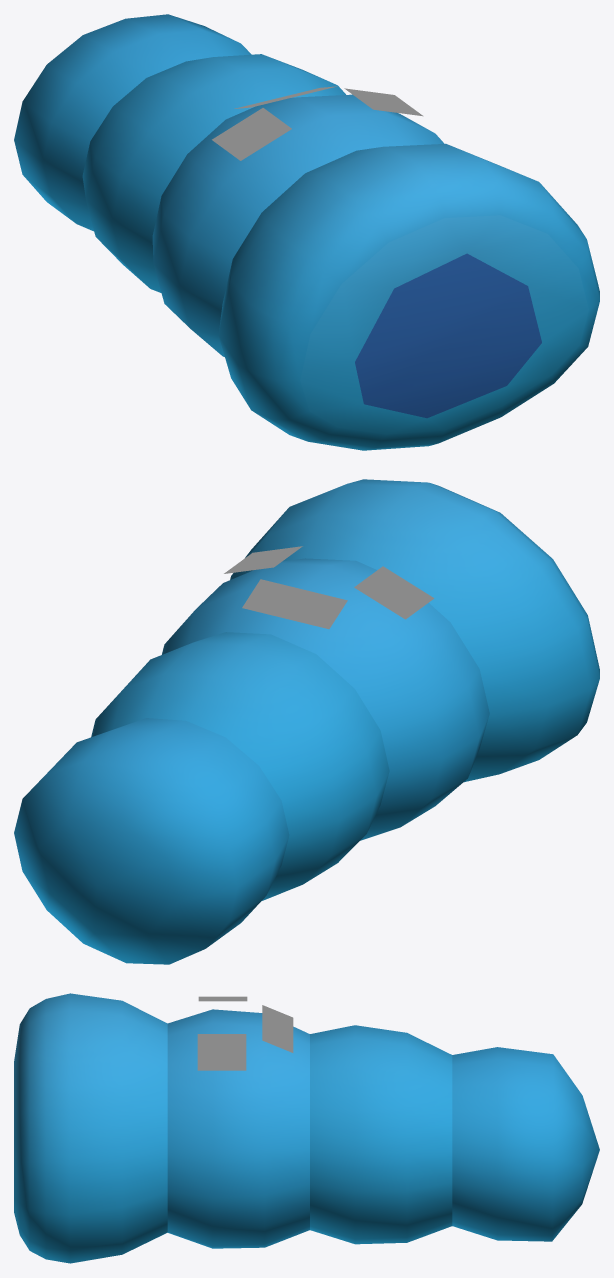
Rendered from sweet_tube_blue_smile.fbx.
3 renders of one model, top to bottom at view 1: azimuth 30°, elevation 25°; view 2: azimuth 150°, elevation 25°; view 3: azimuth 270°, elevation 25°, orthographic. The views are drawn at different scales.
Parts seen in each view (by area): view 1: pie_blue, smile_pie; view 2: pie_blue, smile_pie; view 3: pie_blue, smile_pie.
Boxes of the visible parts, x1,y1,x2,y2 form: pie_blue: (14,14,599,450); smile_pie: (212,86,423,160); pie_blue: (14,479,599,964); smile_pie: (224,546,434,629); pie_blue: (14,993,599,1263); smile_pie: (197,996,293,1070).
Size of the model in its own units: 34.33 by 25.87 by 58.99.
